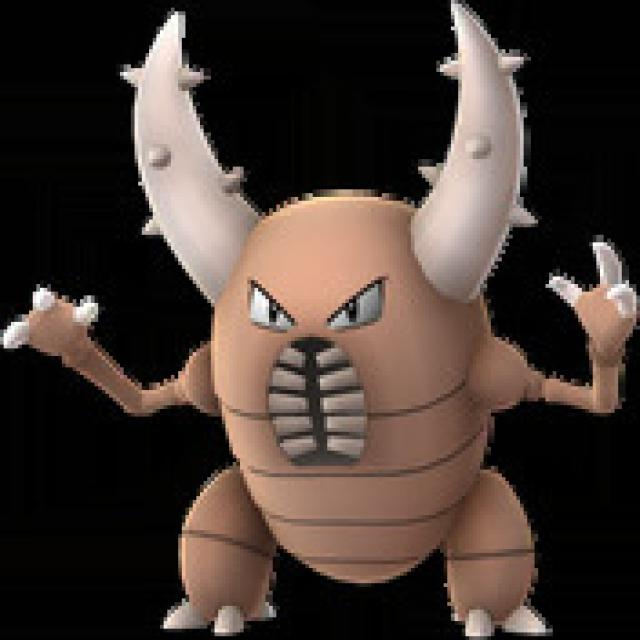Pinsir: (132, 2, 565, 640)
